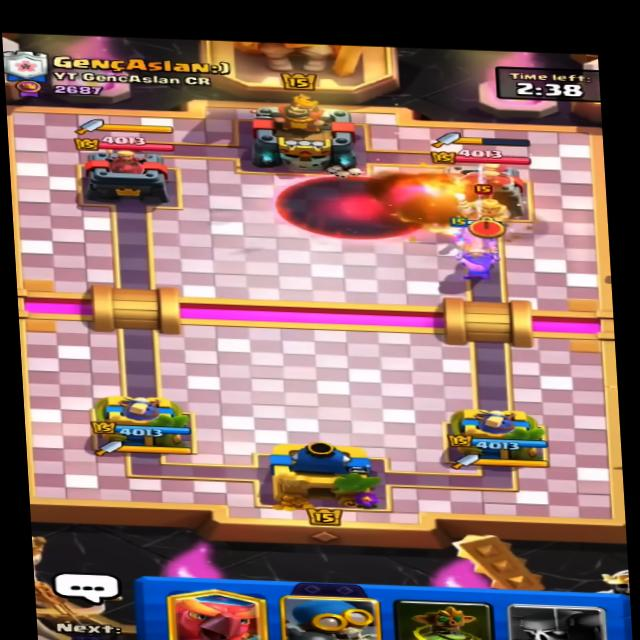prince: (451, 184, 520, 241)
